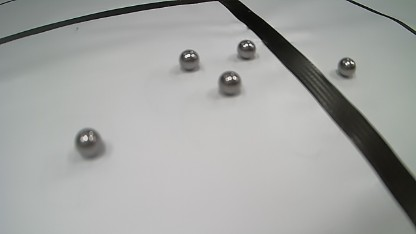ironball: (75, 128, 103, 158), (218, 71, 241, 95), (179, 49, 199, 70), (237, 39, 256, 59), (337, 57, 356, 77)
